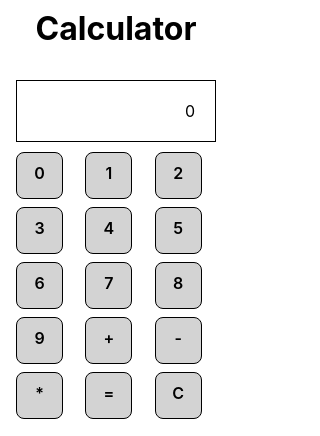
Test: Calculator › performs subtraction operation
Click the button "5" at (178, 230), box x1=155 y1=207 x2=202 y2=254
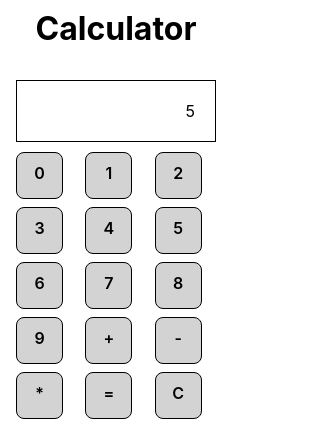
Click the button "-" at (178, 340), box x1=155 y1=317 x2=202 y2=364
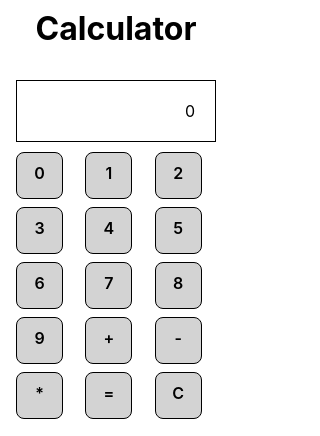
Click the button "3" at (40, 230), box x1=16 y1=207 x2=63 y2=254
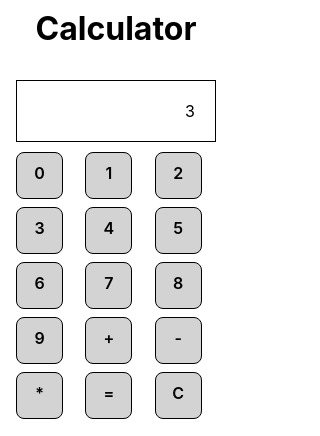
Click the button "=" at (109, 395), box x1=85 y1=372 x2=132 y2=419
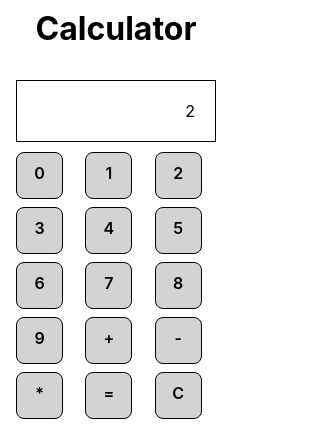
Now the text with test id "display" reads "2", box x1=185 y1=101 x2=195 y2=121
